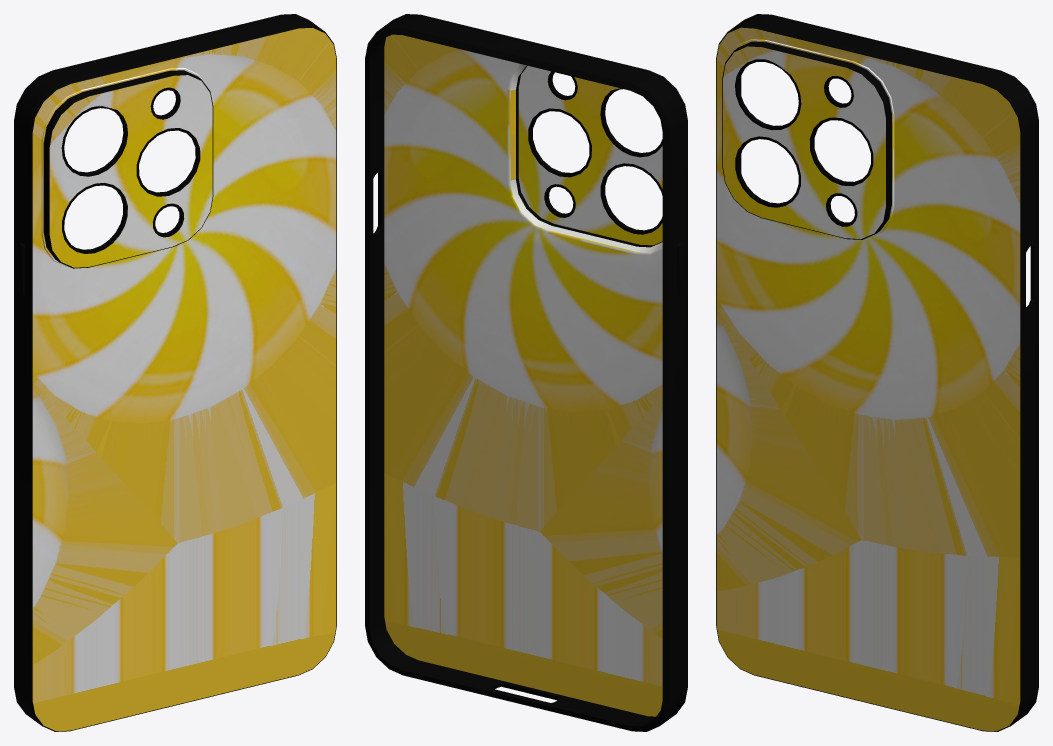
File: phonecase.fbx
3 views of the same model, side by side, from view 1: azimuth 30°, elevation 25°; view 2: azimuth 150°, elevation 25°; view 3: azimuth 330°, elevation 25° (orthographic).
Parts seen in each view (by area): view 1: Plane, Plane_1; view 2: Plane, Plane_1; view 3: Plane, Plane_1.
Boxes of the visible parts, x1,y1,x2,y2 form: Plane: (32,27,336,731); Plane_1: (14,14,336,731); Plane: (384,34,662,716); Plane_1: (365,14,687,731); Plane: (716,27,1020,731); Plane_1: (716,14,1038,731).
Size of the model in its own units: 8.42 by 16.94 by 1.17.
